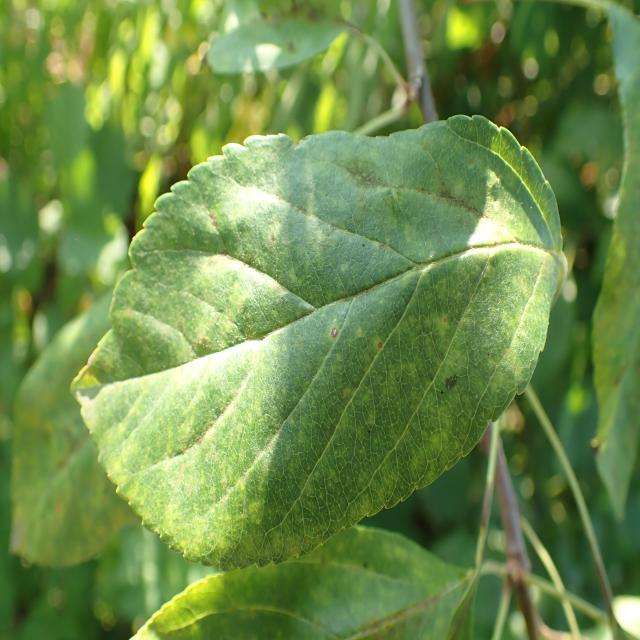scab: (116, 149, 576, 550)
